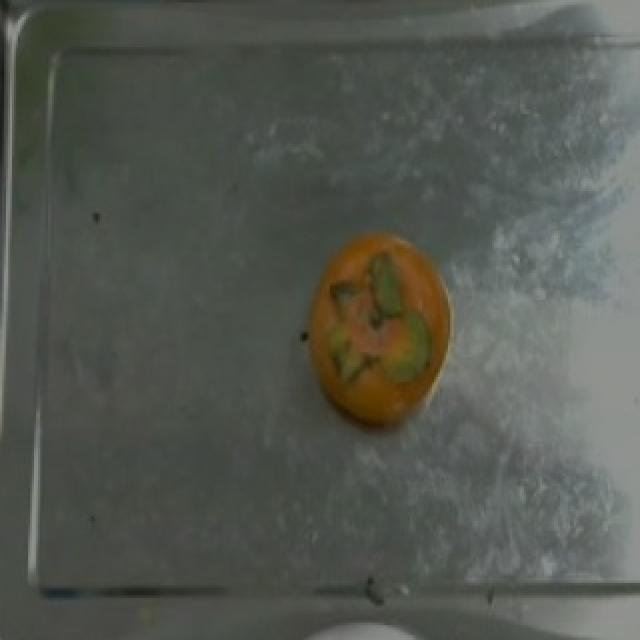Fruit: (292, 211, 468, 446)
